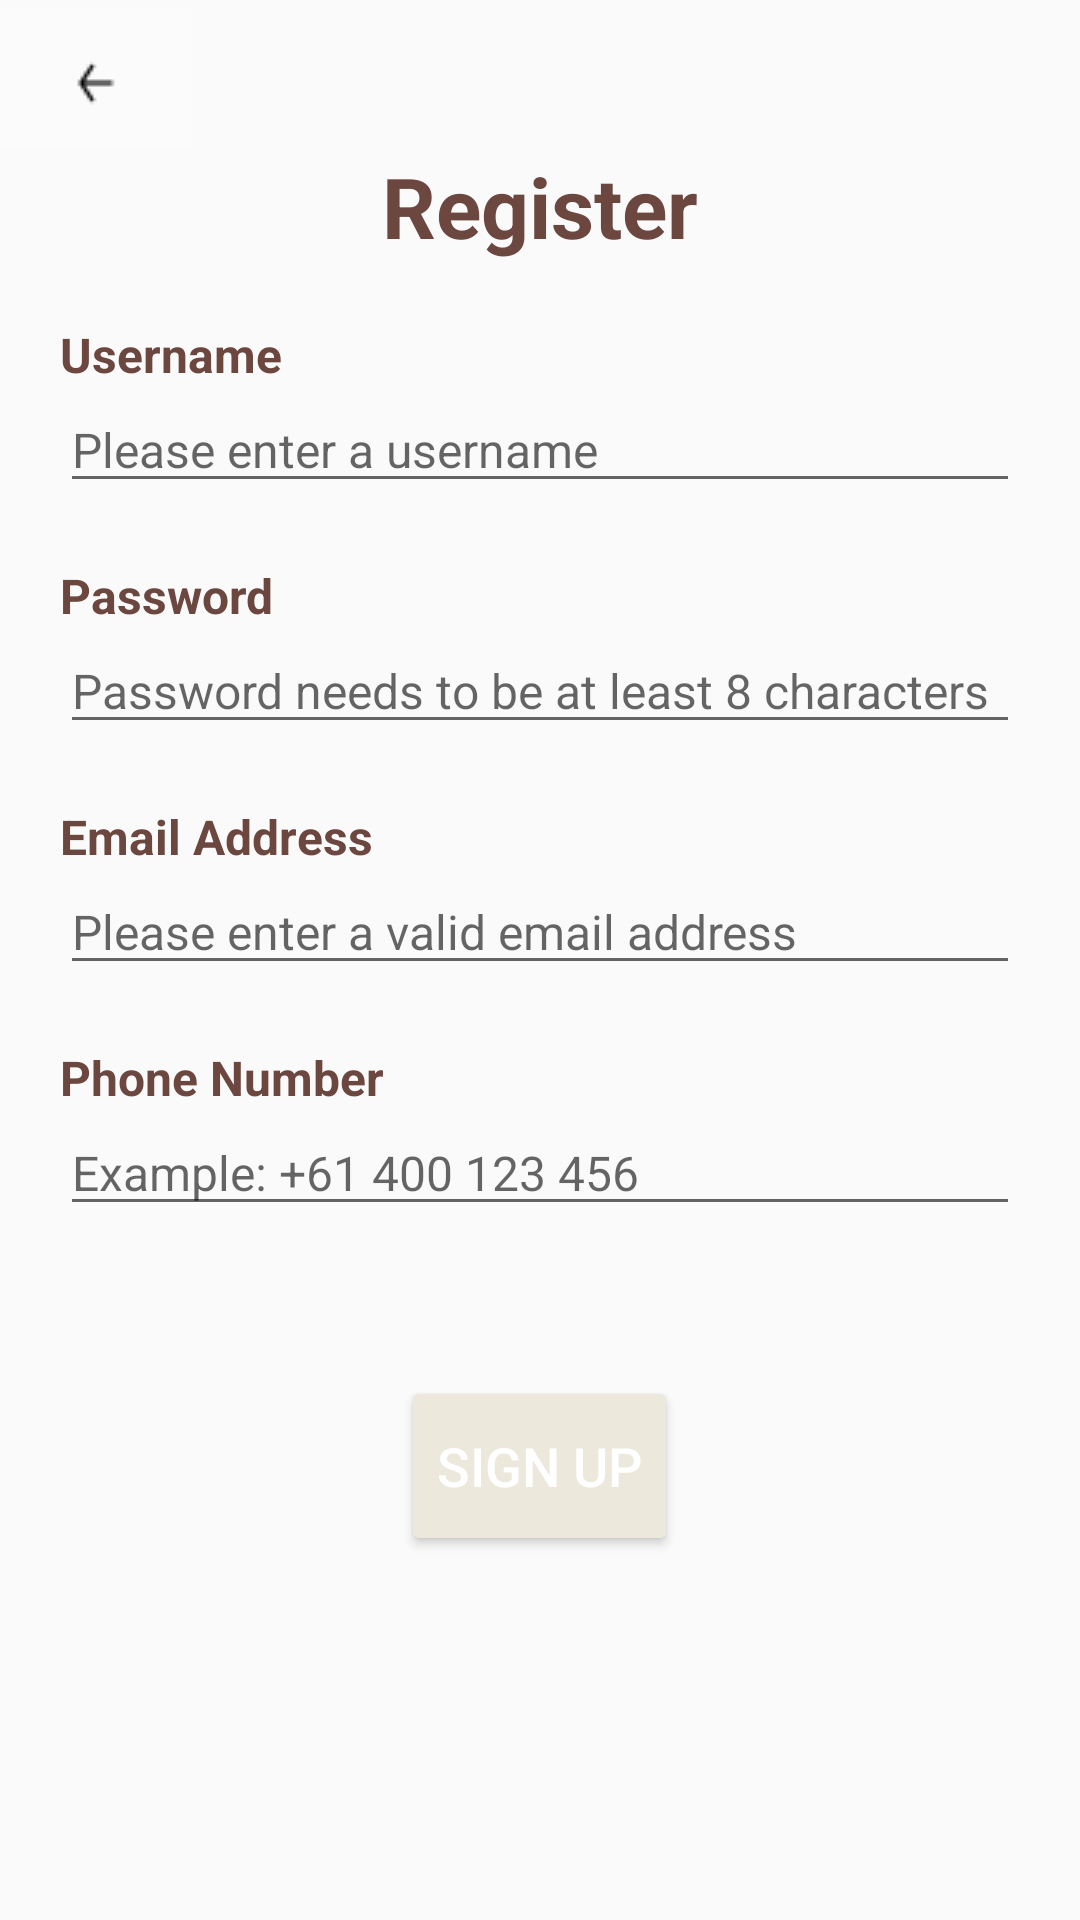

Point at icon controls on the screen. Image size 1080w x 1920h, points as (x,y).
back: (95,83)
